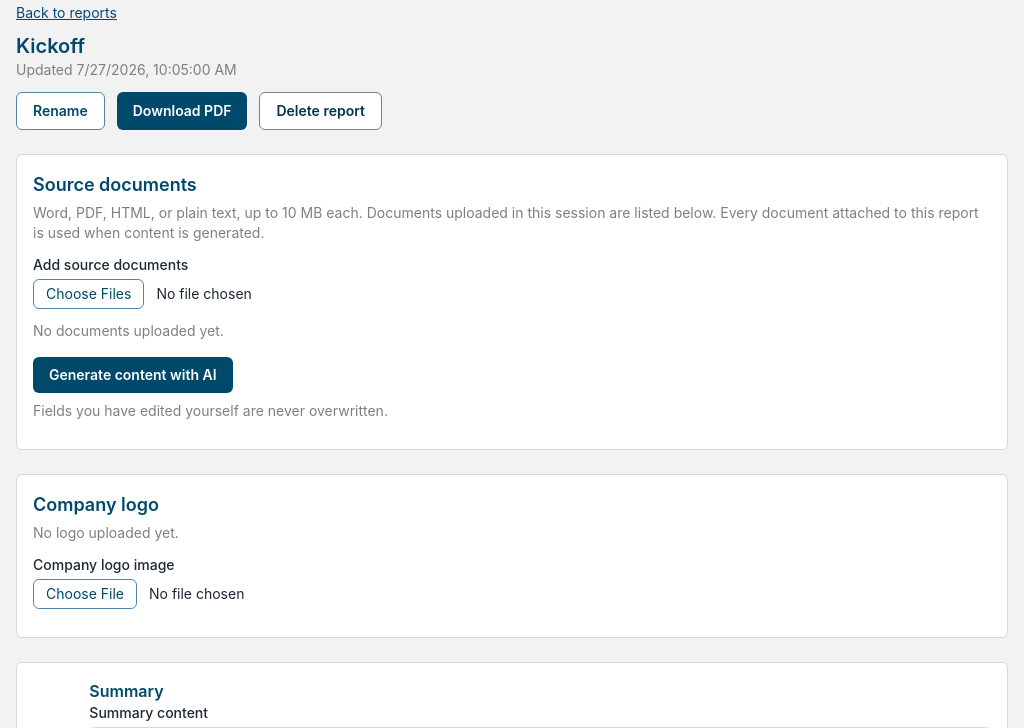
ReportDetailPage › replaces the whole report with the generated one
Check: the heading "Kickoff" is shown, box [16, 34, 85, 58]
Click the button "Generate content with AI": (133, 375) [33, 357, 233, 393]
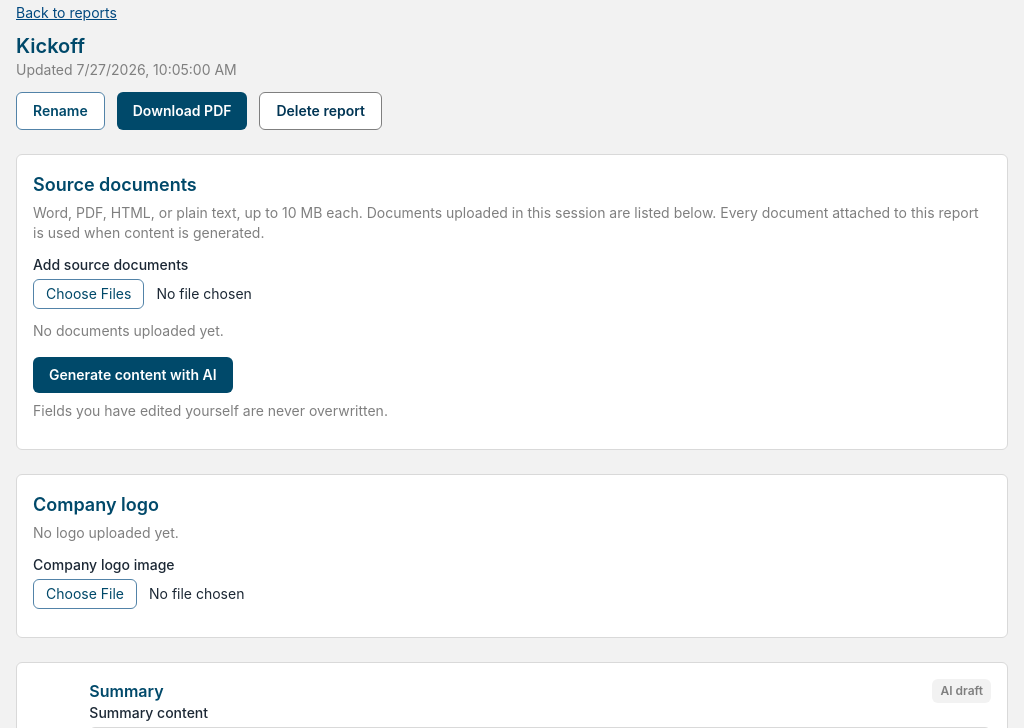
Check: the text "AI draft" is shown, box [932, 679, 991, 703]
